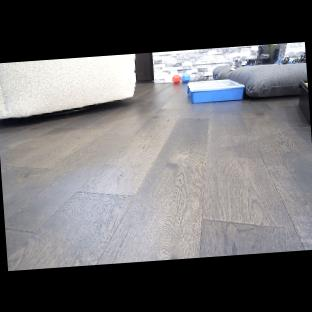V5_BLUE: (181, 73, 190, 83)
V5_RED: (172, 74, 181, 84)
